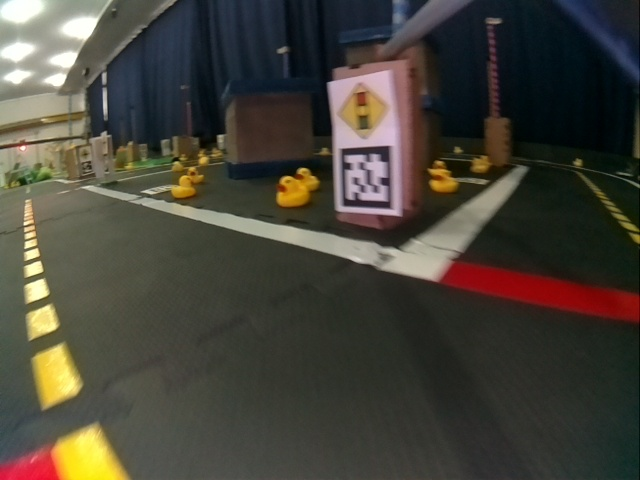Duckie: (277, 178, 306, 207), (432, 173, 456, 192), (173, 177, 194, 198), (297, 167, 316, 190), (191, 167, 204, 182), (173, 162, 182, 170)
QR code: (338, 150, 395, 210)
Signal sign: (335, 83, 392, 139)
Traffic light: (18, 141, 28, 150)
